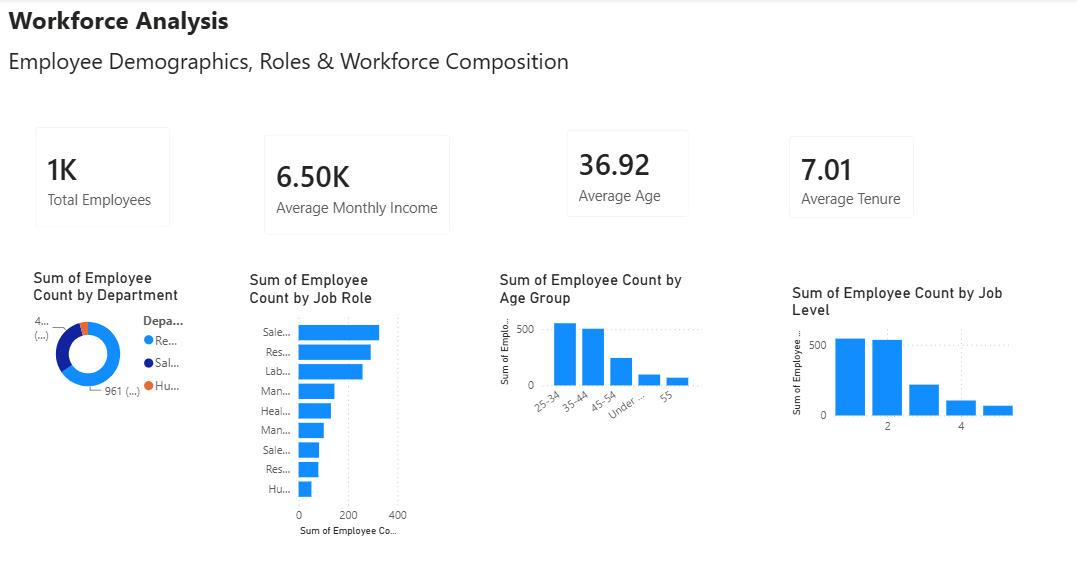

Layout of this report page (visuals, bound fields, positions):
{"tool":"powerbi","page":{"name":"Workforce Analysis","canvas":[1280,720],"ordinal":1},"visuals":[{"type":"textbox","box":[9.6,0,279.9,48],"z":0},{"type":"textbox","box":[9.6,48,710.8,53.5],"z":1000},{"type":"cardVisual","fields":{"Data":["EmployeeData.Total Employees"]},"box":[27.4,124.9,182.5,144.1],"z":2000},{"type":"cardVisual","fields":{"Data":["EmployeeData.Average Age"]},"box":[610.6,127.6,168.8,130.4],"z":3000},{"type":"cardVisual","fields":{"Data":["EmployeeData.Average Monthly Income"]},"box":[278.6,133.1,238.8,144.1],"z":4000},{"type":"cardVisual","fields":{"Data":["EmployeeData.Average Tenure"]},"box":[854.9,134.5,171.5,124.9],"z":5000},{"type":"donutChart","fields":{"Category":["EmployeeData.Department"],"Y":["Sum(EmployeeData.Employee Count)"]},"box":[37,296.4,182.5,150.9],"z":6000},{"type":"clusteredBarChart","fields":{"Category":["EmployeeData.Job Role"],"Y":["Sum(EmployeeData.Employee Count)"]},"box":[274.4,299.1,182.5,296.4],"z":7000},{"type":"clusteredColumnChart","fields":{"Category":["EmployeeData.Age Group"],"Y":["Sum(EmployeeData.Employee Count)"]},"box":[548.9,299.1,230.5,178.4],"z":8000},{"type":"columnChart","fields":{"Category":["EmployeeData.Job Level"],"Y":["Sum(EmployeeData.Employee Count)"]},"box":[870,312.9,252.5,175.6],"z":9000}]}

Visuals, with their boxes on the page's 1280x720 design canvas (x1, y1, x2, y2). These are canvas units, not pixel positions in the 1077x576 screenshot, which may show the page scaled, cropped or inside an application window:
textbox: 10, 0, 290, 48
textbox: 10, 48, 720, 102
cardVisual - EmployeeData.Total Employees: 27, 125, 210, 269
cardVisual - EmployeeData.Average Age: 611, 128, 779, 258
cardVisual - EmployeeData.Average Monthly Income: 279, 133, 517, 277
cardVisual - EmployeeData.Average Tenure: 855, 134, 1026, 259
donutChart - EmployeeData.Department x Sum(EmployeeData.Employee Count): 37, 296, 220, 447
clusteredBarChart - EmployeeData.Job Role x Sum(EmployeeData.Employee Count): 274, 299, 457, 596
clusteredColumnChart - EmployeeData.Age Group x Sum(EmployeeData.Employee Count): 549, 299, 779, 478
columnChart - EmployeeData.Job Level x Sum(EmployeeData.Employee Count): 870, 313, 1122, 488
